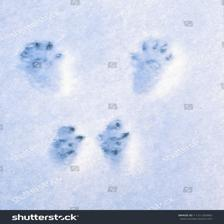squirrel: (131, 40, 174, 95)
